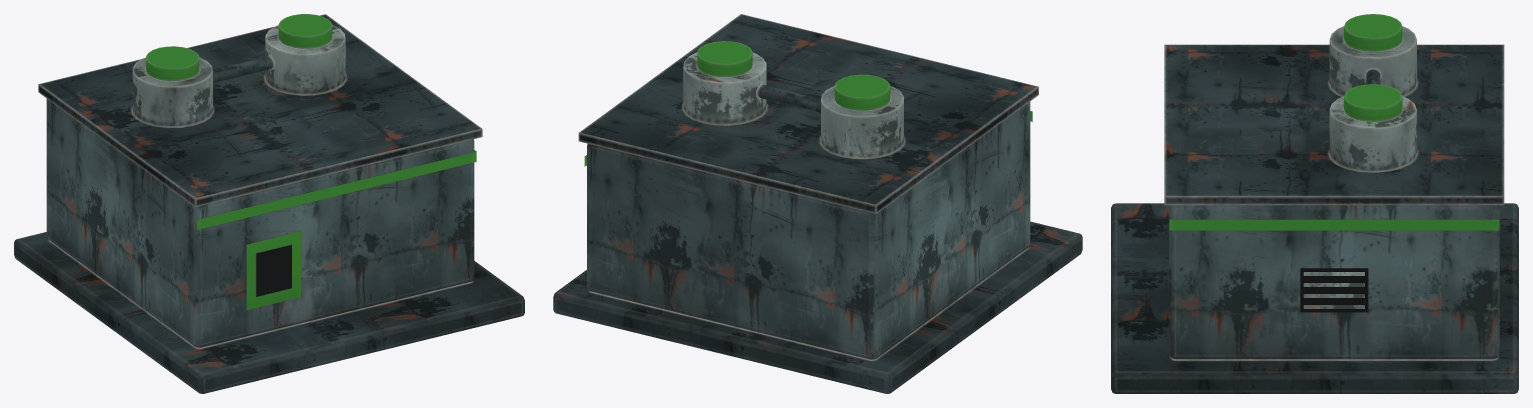
The model's file is sanitation_station.glb.
3 renders of one model, left to right at view 1: azimuth 30°, elevation 25°; view 2: azimuth 150°, elevation 25°; view 3: azimuth 270°, elevation 25°, orthographic. The views are drawn at different scales.
Parts seen in each view (by area): view 1: te_sanitation_station; view 2: te_sanitation_station; view 3: te_sanitation_station.
Part boxes in pixels (x1,y1,x2,y2): te_sanitation_station: (14, 14, 524, 393); te_sanitation_station: (553, 14, 1082, 393); te_sanitation_station: (1111, 14, 1518, 393).
Bounding box in the file's own units: 0.84 × 0.56 × 0.84.
Materials: 1 (1 with a texture image).
